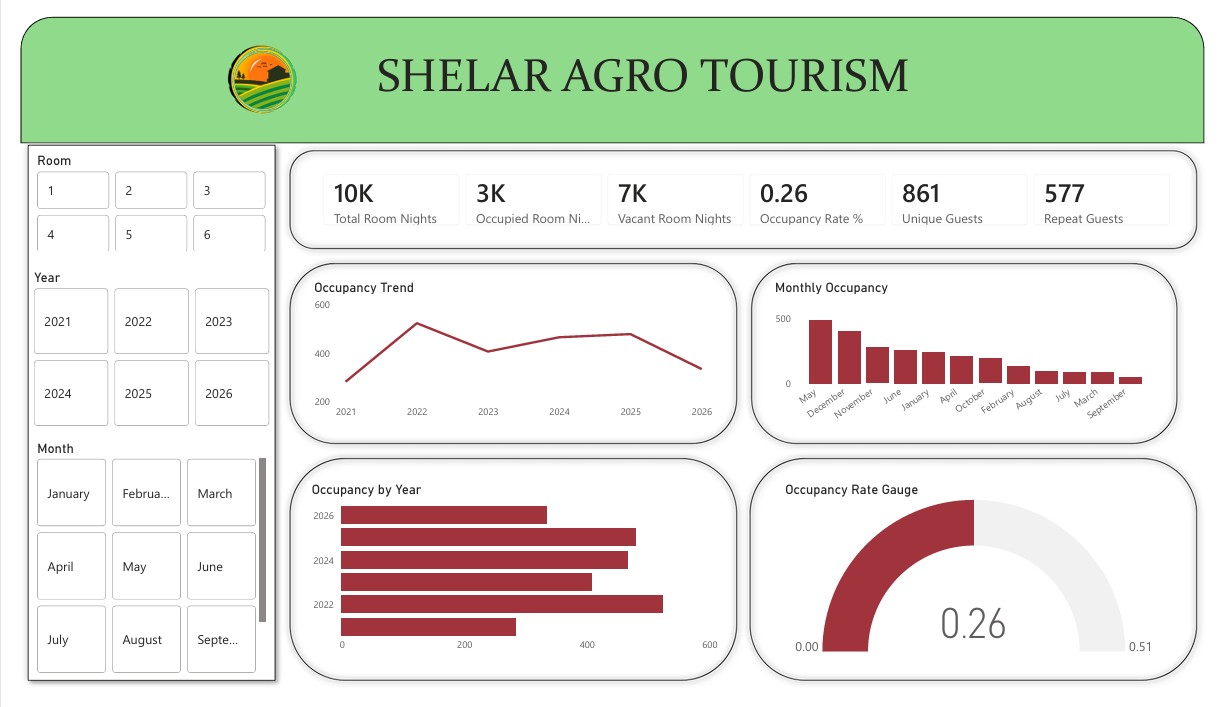

The page's visual inventory and layout, read from the dashboard file:
{"tool":"powerbi","page":{"name":"Executive Dashboard","canvas":[1500,850],"ordinal":0},"visuals":[{"type":"shape","box":[0,0,1499.9,160.2],"z":0},{"type":"textbox","box":[332,33.2,913.8,93.8],"z":1000},{"type":"image","box":[216.5,7.2,174.7,145.8],"z":2000},{"type":"shape","box":[0,153,332,697.3],"z":3000},{"type":"shape","box":[332,160.2,1167.9,142.9],"z":4000},{"type":"shape","box":[332,550,584.7,300.3],"z":5000},{"type":"shape","box":[332,303.2,584.7,246.9],"z":6000},{"type":"shape","box":[916.7,303.2,558.7,246.9],"z":7000},{"type":"shape","box":[915.3,550,584.7,300.3],"z":8000},{"type":"cardVisual","fields":{"Data":["hotelbookings booking.Total Room Nights","hotelbookings booking.Occupied Room Nights","hotelbookings booking.Vacant Room Nights","hotelbookings booking.Occupancy Rate %","hotelbookings booking.Unique Guests","hotelbookings booking.Repeat Guests"]},"box":[366.7,181.9,1108.7,99.6],"z":9000},{"type":"lineChart","title":"Occupancy Trend","fields":{"Category":["hotelbookings booking.date.Variation.Date Hierarchy.Year"],"Y":["hotelbookings booking.Occupied Rooms"]},"box":[366.7,332,513.9,186.2],"z":10000},{"type":"clusteredColumnChart","title":"Monthly Occupancy","fields":{"Category":["hotelbookings booking.month"],"Y":["hotelbookings booking.Occupied Rooms"]},"box":[951.3,332,489.4,193.4],"z":11000},{"type":"barChart","title":"Occupancy by Year","fields":{"Category":["hotelbookings booking.year"],"Y":["hotelbookings booking.Occupied Rooms"]},"box":[363.8,587.6,524,226.6],"z":12000},{"type":"gauge","title":"Occupancy Rate Gauge","fields":{"Y":["hotelbookings booking.Occupancy Rate %"]},"box":[964.3,587.6,487.9,226.6],"z":13000},{"type":"advancedSlicerVisual","fields":{"Values":["hotelbookings booking.month"]},"box":[15.9,535.6,300.3,300.3],"z":14000},{"type":"advancedSlicerVisual","fields":{"Values":["hotelbookings booking.year"]},"box":[11.5,320.5,308.9,205],"z":15000},{"type":"advancedSlicerVisual","fields":{"Values":["hotelbookings booking.room_no"]},"box":[15.9,171.8,300.3,131.4],"z":16000}]}

Visuals, with their boxes in screenshot pixels (x1, y1, x2, y2), scaled from the page's 1500x850 canvas onto the 1220x707 screenshot:
shape: (left=0, top=0, right=1219, bottom=133)
textbox: (left=270, top=28, right=1013, bottom=106)
image: (left=176, top=6, right=318, bottom=127)
shape: (left=0, top=127, right=270, bottom=706)
shape: (left=270, top=133, right=1219, bottom=252)
shape: (left=270, top=457, right=746, bottom=706)
shape: (left=270, top=252, right=746, bottom=458)
shape: (left=746, top=252, right=1200, bottom=458)
shape: (left=744, top=457, right=1219, bottom=706)
cardVisual - hotelbookings booking.Total Room Nights x hotelbookings booking.Occupied Room Nights: (left=298, top=151, right=1200, bottom=234)
"Occupancy Trend" lineChart: (left=298, top=276, right=716, bottom=431)
"Monthly Occupancy" clusteredColumnChart: (left=774, top=276, right=1172, bottom=437)
"Occupancy by Year" barChart: (left=296, top=489, right=722, bottom=677)
"Occupancy Rate Gauge" gauge: (left=784, top=489, right=1181, bottom=677)
advancedSlicerVisual - hotelbookings booking.month: (left=13, top=445, right=257, bottom=695)
advancedSlicerVisual - hotelbookings booking.year: (left=9, top=267, right=261, bottom=437)
advancedSlicerVisual - hotelbookings booking.room_no: (left=13, top=143, right=257, bottom=252)
